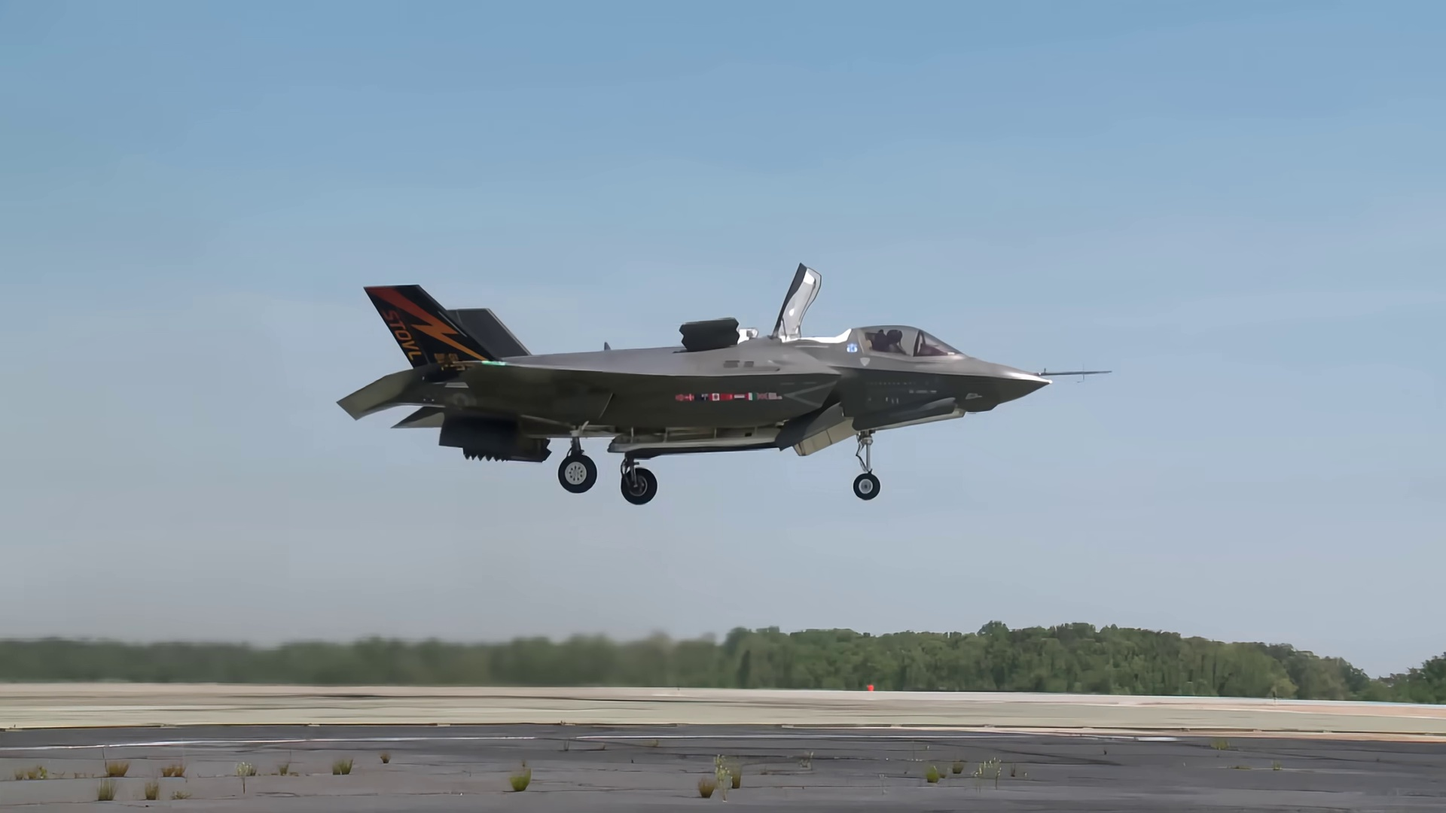F35: (337, 262, 1113, 506)
